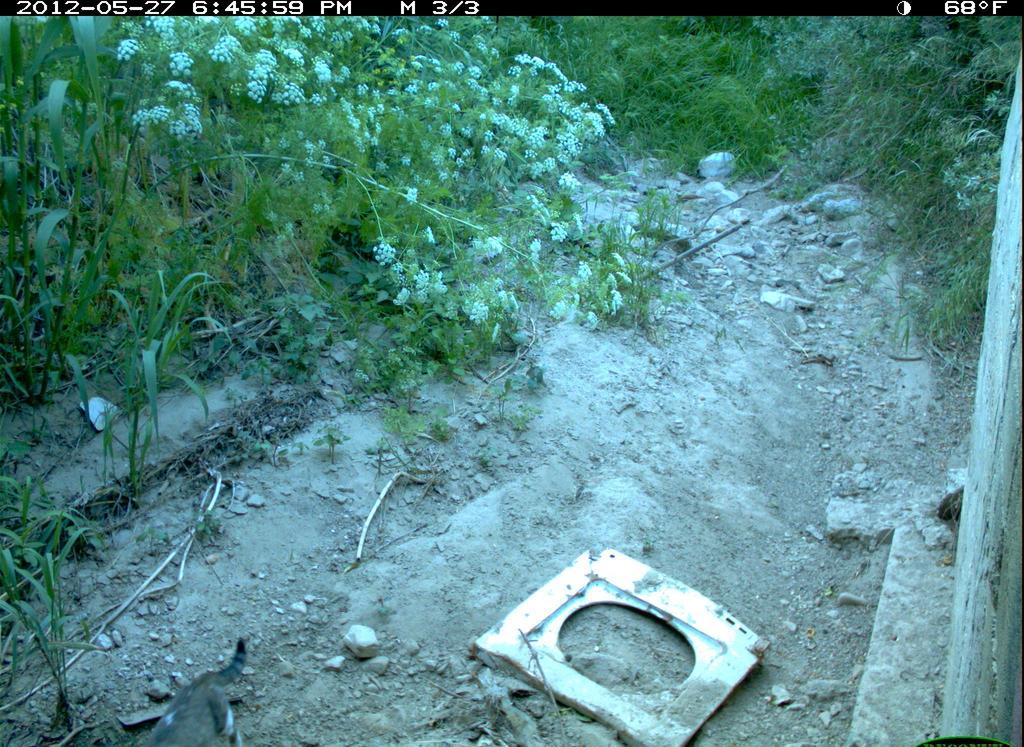cat: (149, 639, 258, 747)
